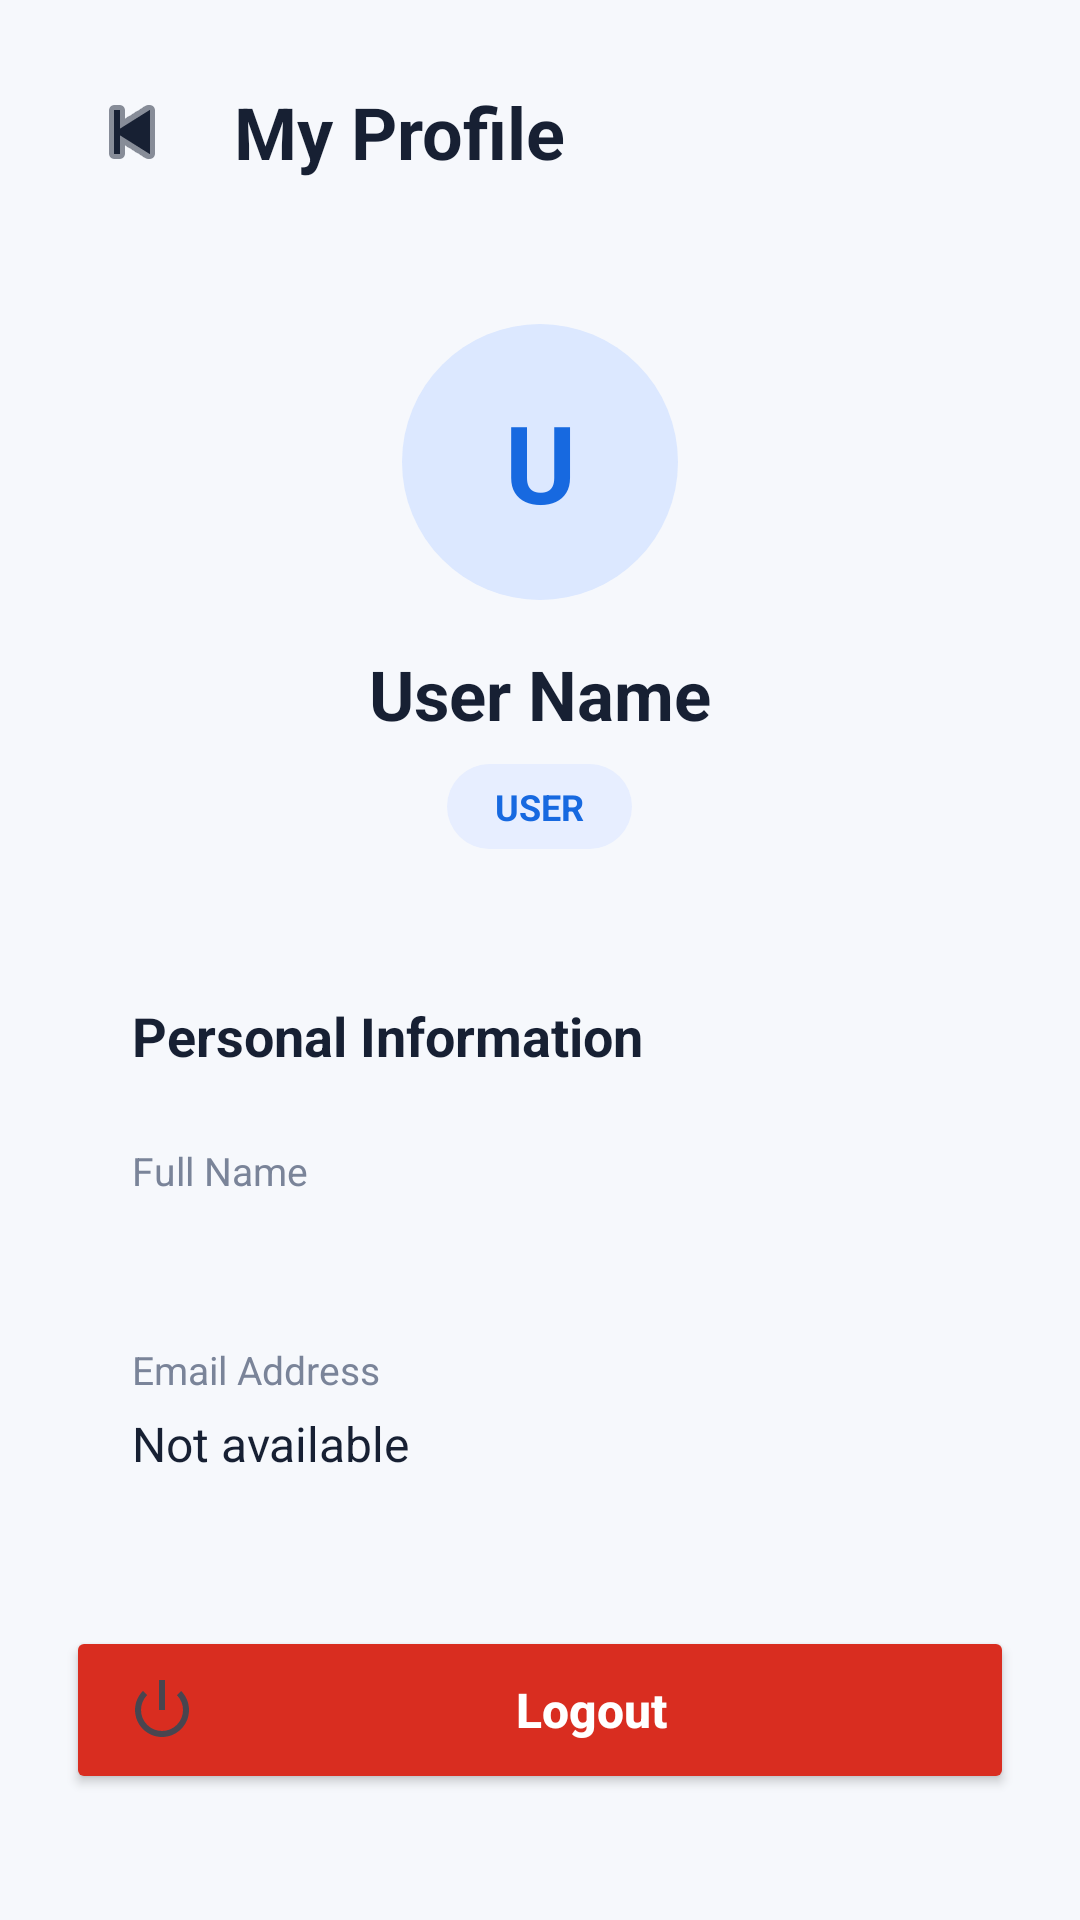

Where icons sit on this 1080 × 1920 app screen, as (x1, y1, x2, y2):
Go back: (109, 105, 155, 159)
